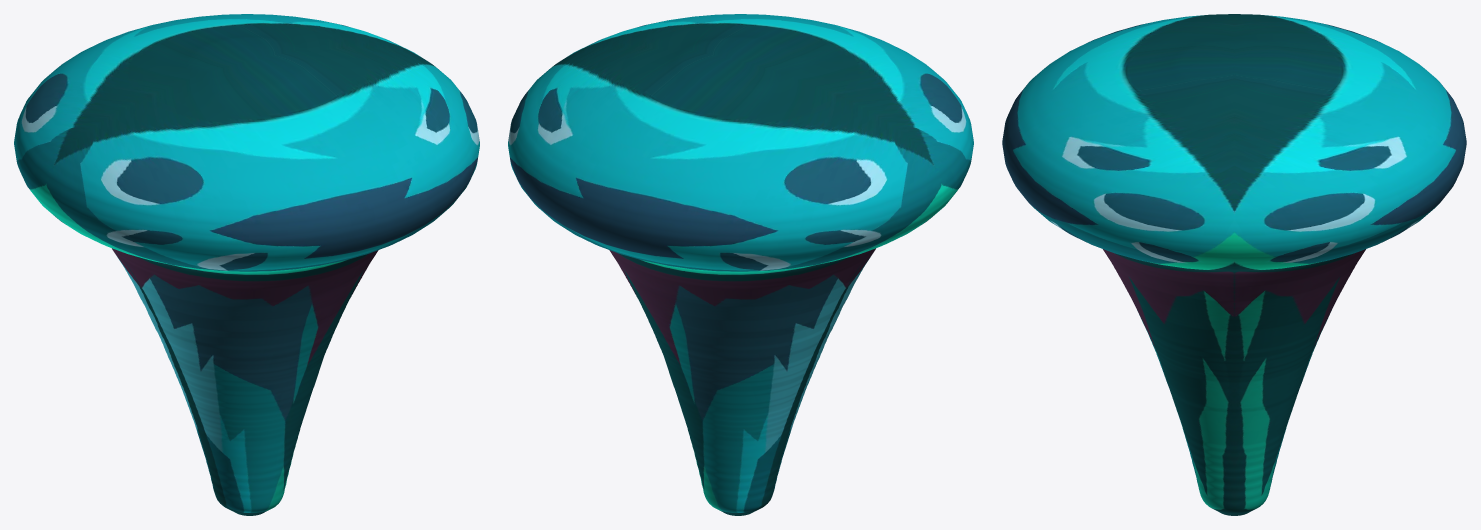
Rendered from teal_mushroom.glb.
3 renders of one model, left to right at view 1: azimuth 30°, elevation 25°; view 2: azimuth 150°, elevation 25°; view 3: azimuth 270°, elevation 25°, orthographic.
Parts seen in each view (by area): view 1: teal_mushroom; view 2: teal_mushroom; view 3: teal_mushroom.
Boxes of the visible parts, x1=… form: teal_mushroom: x1=14, y1=14, x2=479, y2=515; teal_mushroom: x1=508, y1=14, x2=973, y2=515; teal_mushroom: x1=1002, y1=14, x2=1466, y2=515.
Bounding box in the file's own units: 0.9993 × 1.06 × 0.9993.
Materials: 1 (1 with a texture image).
